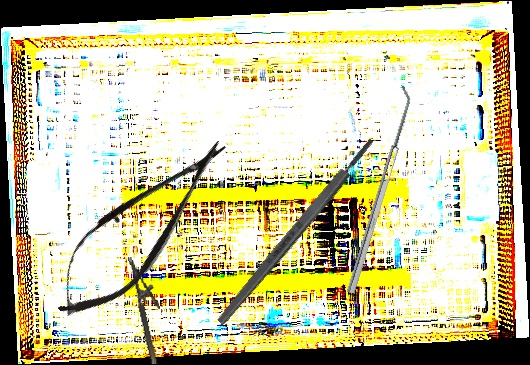Micro Scissor: (33, 117, 249, 337)
Needle Holder: (127, 253, 172, 365)
Scalpel Handle: (214, 136, 378, 327)
Spatula Surgical: (339, 85, 417, 294)
